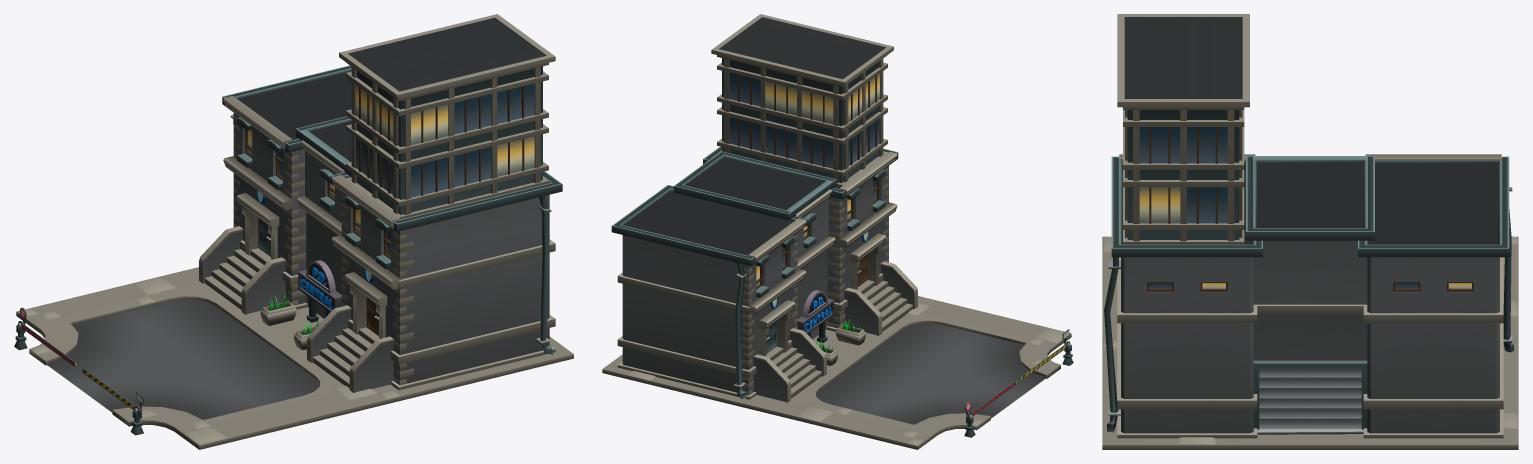
The model's file is Building_17A.fbx.
3 renders of one model, left to right at view 1: azimuth 30°, elevation 25°; view 2: azimuth 150°, elevation 25°; view 3: azimuth 270°, elevation 25°, orthographic. The views are drawn at different scales.
Visible parts, largest first — view 1: Building_17A, Window_Lights_17A; view 2: Building_17A, Window_Lights_17A; view 3: Building_17A, Window_Lights_17A.
Boxes of the visible parts, left/top/right/bottom form: Building_17A: left=14, top=14, right=573, bottom=449; Window_Lights_17A: left=248, top=85, right=534, bottom=234; Building_17A: left=602, top=14, right=1073, bottom=449; Window_Lights_17A: left=756, top=74, right=879, bottom=286; Building_17A: left=1102, top=14, right=1518, bottom=449; Window_Lights_17A: left=1139, top=187, right=1471, bottom=288.
Size of the model in its own units: 28.3 by 19.91 by 22.
